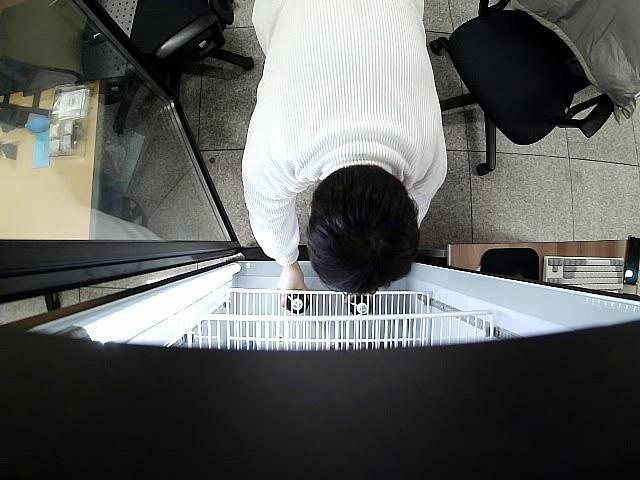19_17cha: (286, 290, 310, 314)
